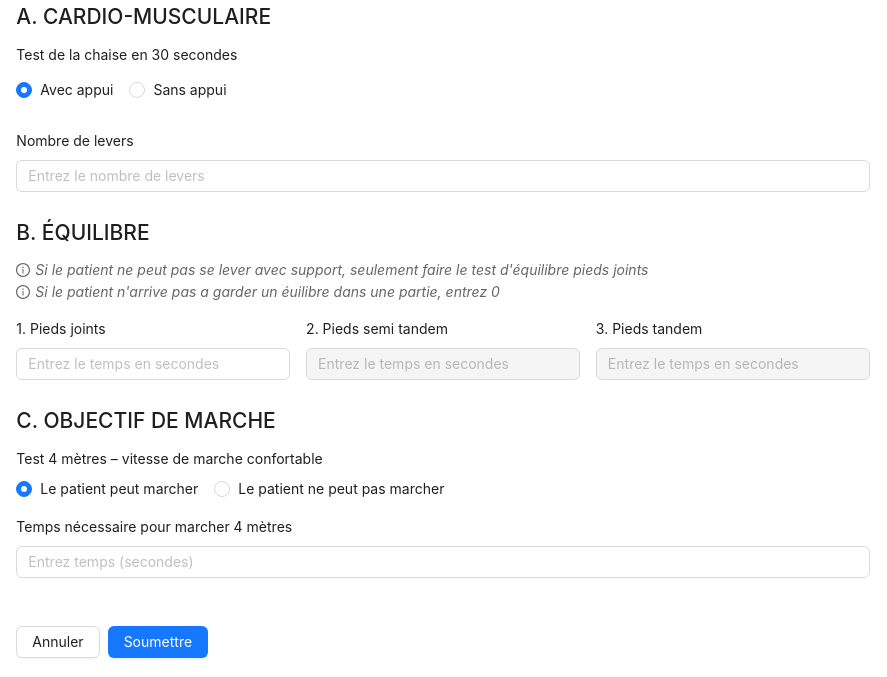
Test: EvaluationPATH Component › Section Objectif de Marche › gère correctement l'affichage du champ de temps de marche selon la capacité du patient
This screenshot has width=887, height=677.
Expected: the radio button labelled "Le patient peut marcher" is checked, [16,478,206,500]
Expected: the text "Temps nécessaire pour marcher 4 mètres" is shown, [16,516,306,538]
Step 1. Click the text "Le patient ne peut pas marcher" → [341, 488], box [230,478,452,500]
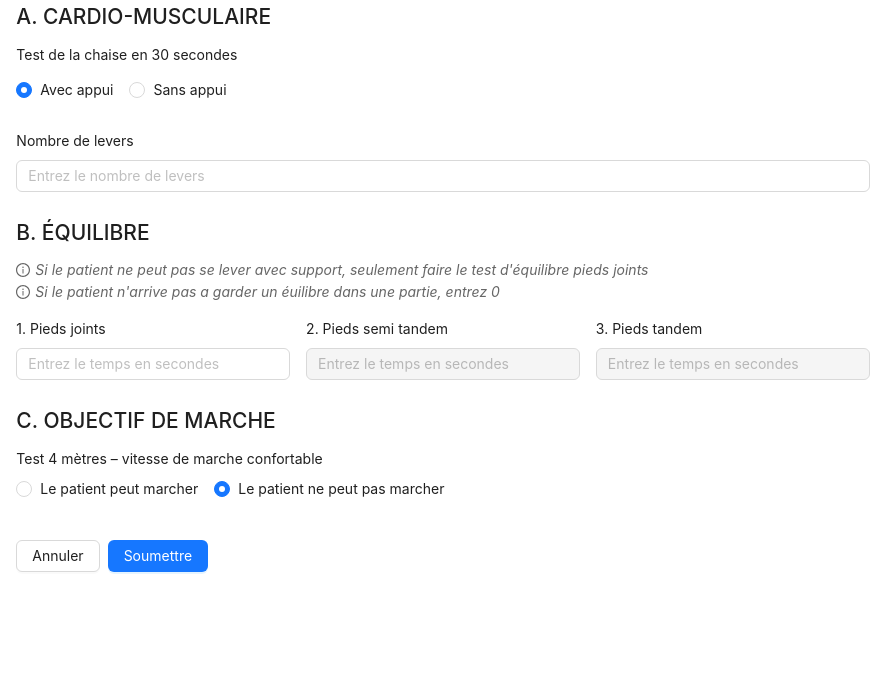
Expected: the text "Temps nécessaire pour marcher 4 mètres" is gone
